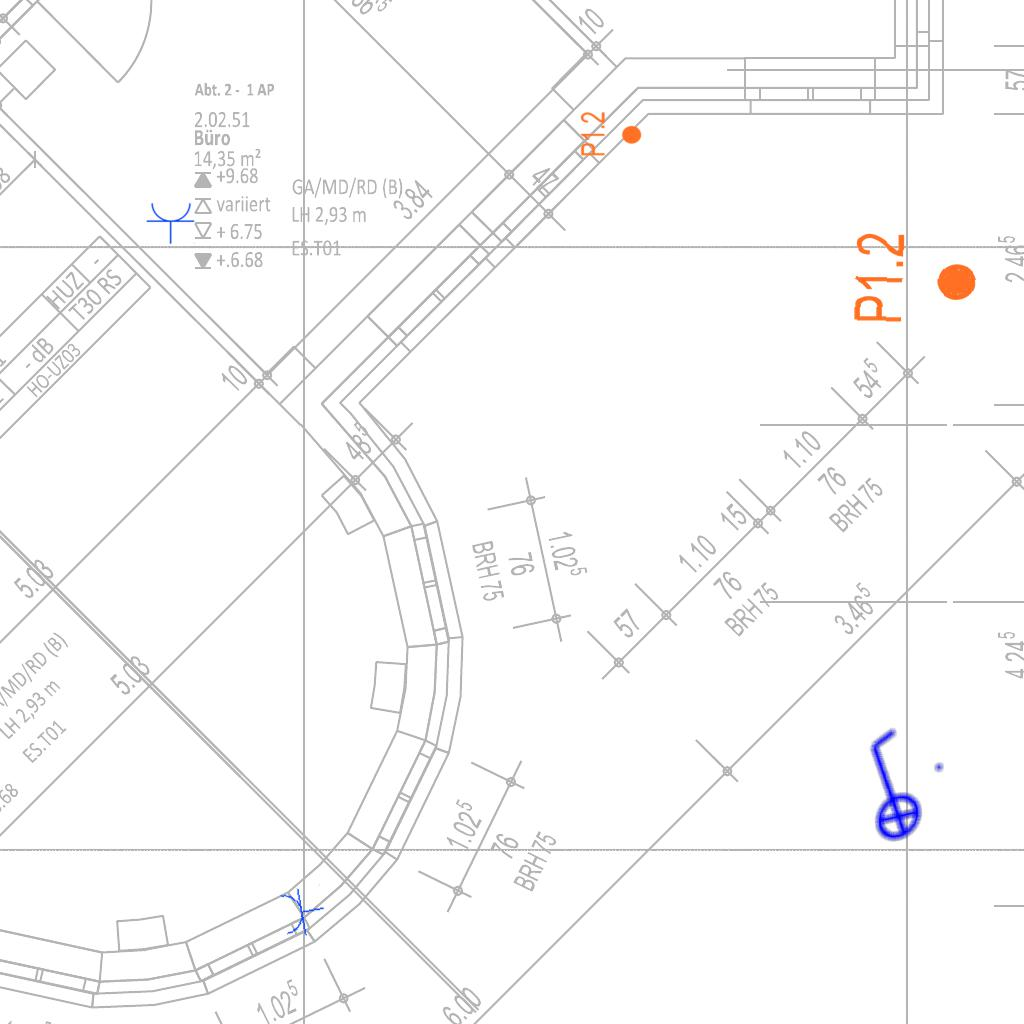Ausschalter_beleuchtet: (816, 713, 962, 861)
Downlight_LED_Einbauleuchten_Flur: (849, 230, 982, 328), (579, 111, 643, 157)
Schukosteckdose_einfach: (277, 883, 329, 940), (146, 201, 196, 244)
